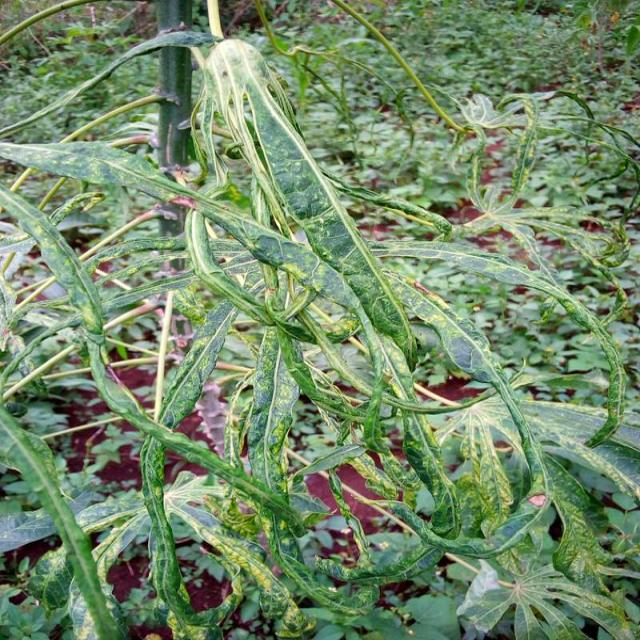cassava leaf: (0, 30, 638, 638)
